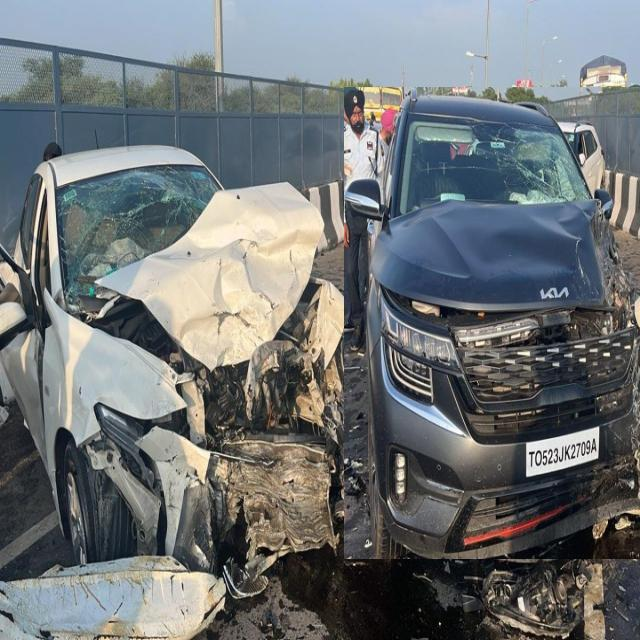accident: (0, 147, 349, 638), (344, 87, 640, 559)
